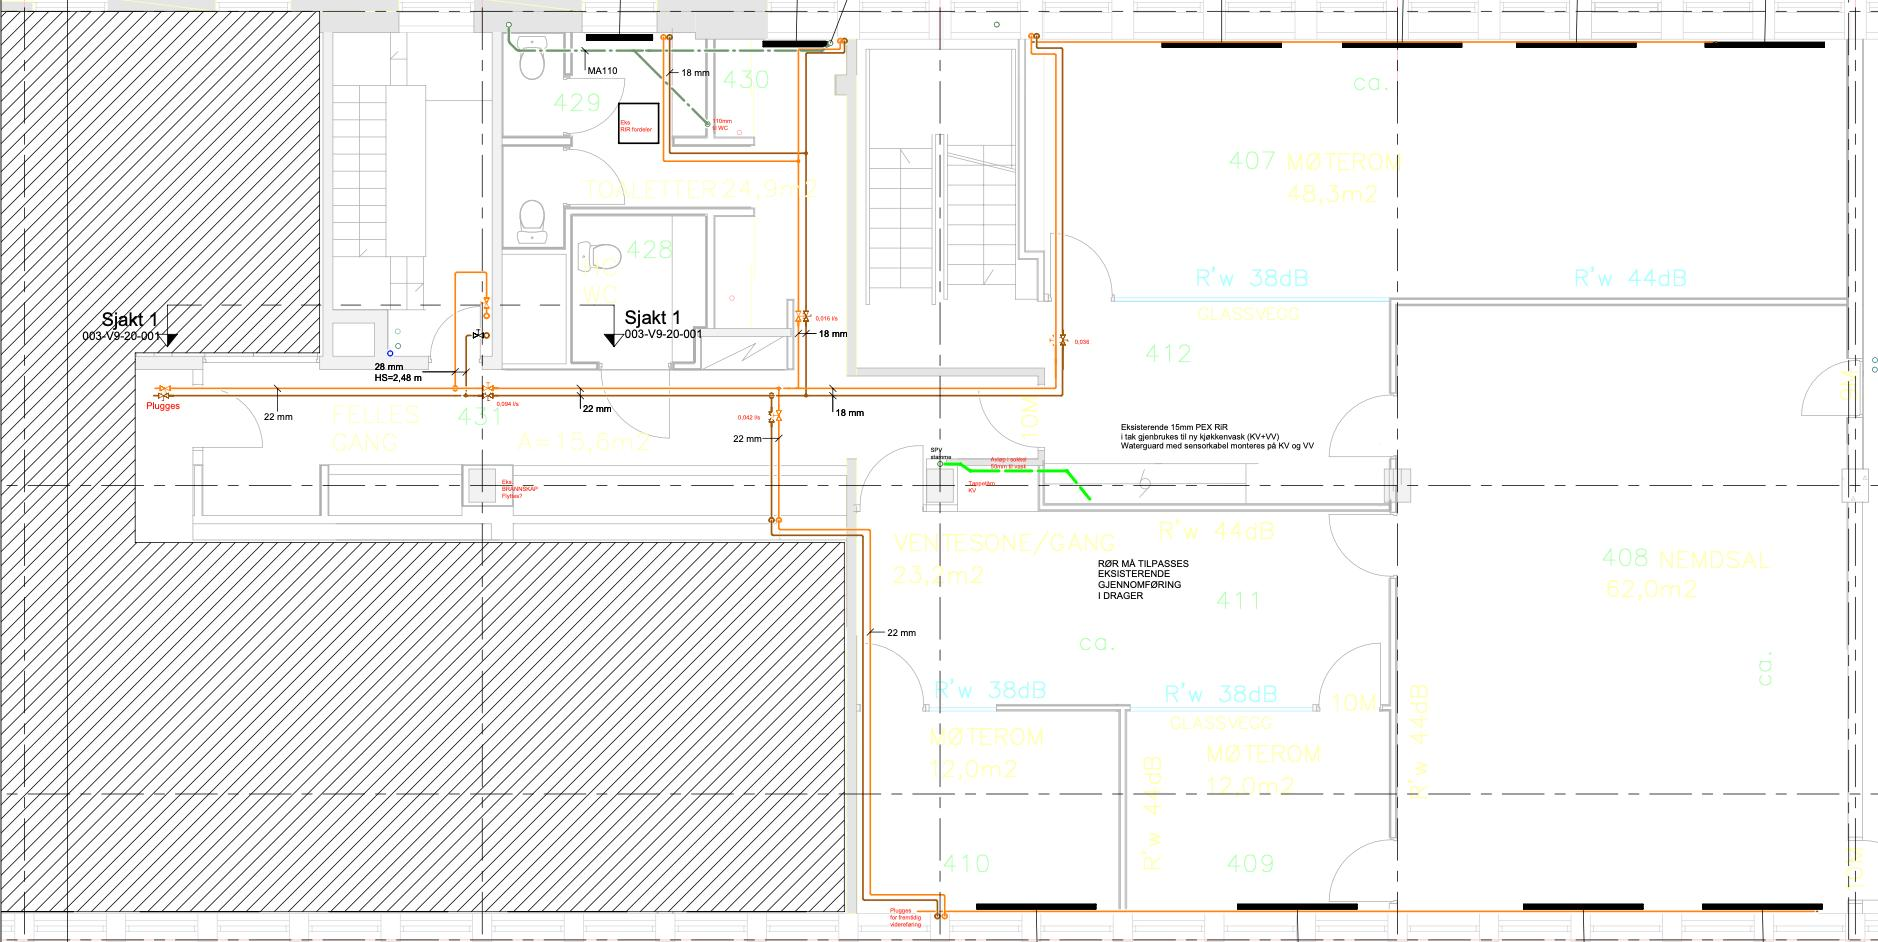room: (1394, 303, 1854, 905), (1033, 36, 1852, 302), (497, 28, 851, 392), (847, 506, 1392, 709), (1123, 710, 1394, 907), (866, 710, 1122, 916)
